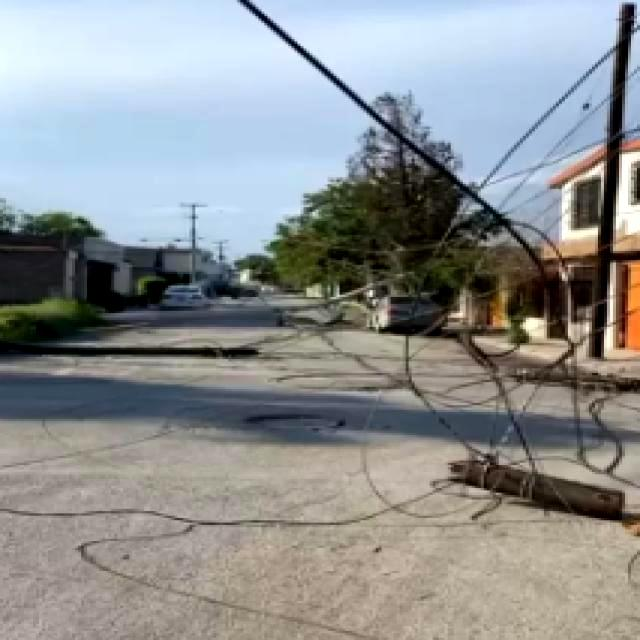Broken Pole: (464, 456, 626, 522), (2, 338, 258, 356), (505, 365, 636, 392)
